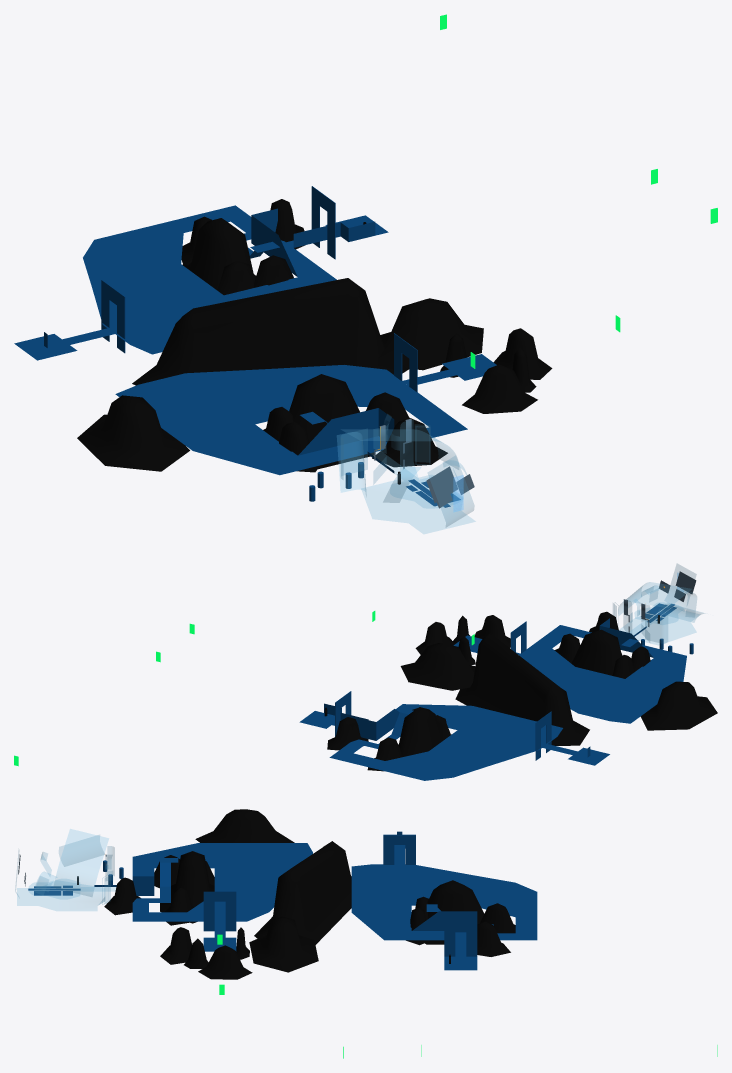
Rendered from world_1c.glb.
The picture shows the model from 3 angles, top to bottom: view 1: azimuth 30°, elevation 25°; view 2: azimuth 150°, elevation 25°; view 3: azimuth 270°, elevation 25°; orthographic projection. The views are drawn at different scales.
Visible parts, largest first — view 1: Cube.001, Plane.001, Plane.004; view 2: Plane.001, Cube.001, Plane.004; view 3: Plane.001, Cube.001, Plane.004.
Part boxes in pixels (x1,y1,x2,y2): Cube.001: (77,199,552,484); Plane.001: (14,186,496,508); Plane.004: (337,414,475,533); Plane.001: (299,603,693,780); Cube.001: (324,611,717,771); Plane.004: (613,564,704,644); Plane.001: (28,831,537,970); Cube.001: (77,809,515,979); Plane.004: (15,829,114,910).
Bounding box in the file's own units: 104 × 13.29 × 129.
Materials: 7 (1 with a texture image).
